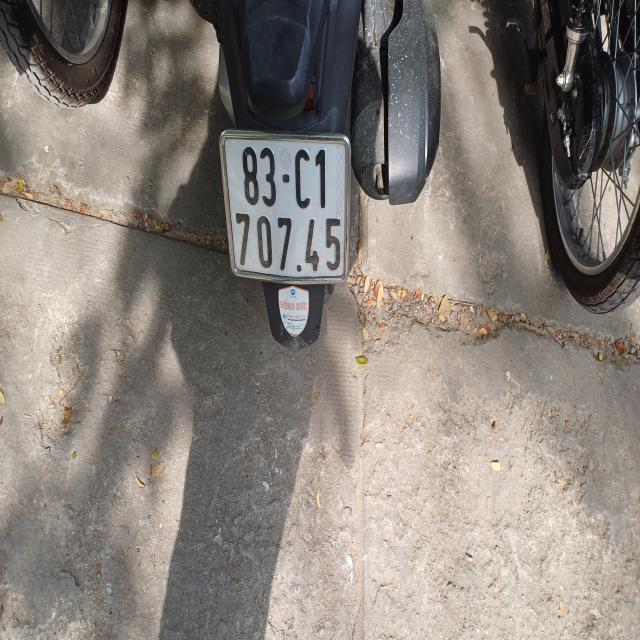0: (256, 214, 273, 271)
1: (315, 148, 327, 208)
3: (260, 144, 277, 210)
4: (304, 219, 320, 271)
5: (326, 216, 342, 273)
7: (235, 210, 251, 270), (278, 215, 292, 277)
8: (241, 144, 260, 208)
C: (294, 148, 312, 210)
